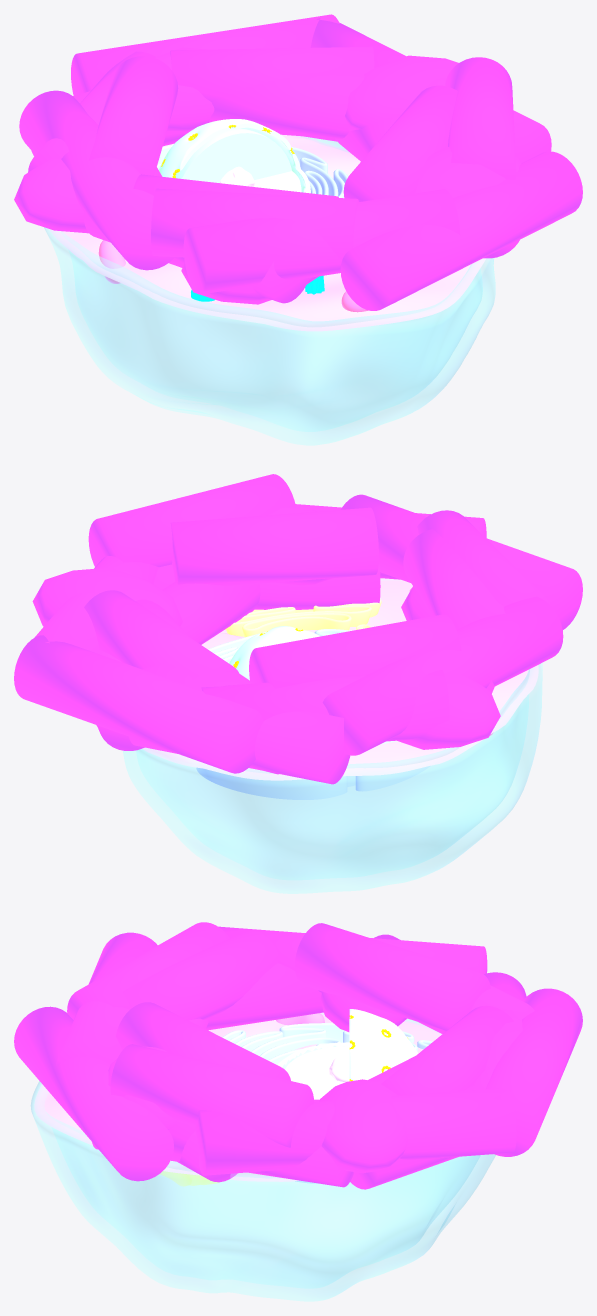
The model's file is heart-cellular-progressing-3.glb.
3 renders of one model, top to bottom at view 1: azimuth 30°, elevation 25°; view 2: azimuth 150°, elevation 25°; view 3: azimuth 270°, elevation 25°, orthographic. The views are drawn at different scales.
Visible parts, largest first — view 1: Sphere_0, AmyloidFibril_6, AmyloidFibril_7, Sphere.001_0, AmyloidFibril_2, AmySevere_9, AmySevere_0, AmySevere_4, AmySevere_6, AmySevere_8, AmySevere_5, AmyloidFibril_4 (+14 smaller); view 2: Sphere_0, AmyloidFibril_4, AmySevere_6, AmyloidFibril_2, AmySevere_0, AmySevere_8, Sphere.001_0, AmySevere_4, AmyloidFibril_7, AmyloidFibril_5, AmyloidFibril_9, AmySevere_1 (+13 smaller); view 3: Sphere_0, AmyloidFibril_0, AmySevere_0, AmyloidFibril_6, AmySevere_8, AmyloidFibril_4, AmySevere_1, AmyloidClump_0, AmySevere_4, AmySevere_6, AmyloidFibril_7, AmySevere_9 (+15 smaller).
Part boxes in pixels (x1,y1,x2,y2): Sphere_0: (44, 136, 495, 445); AmyloidFibril_6: (340, 151, 582, 310); AmyloidFibril_7: (183, 189, 460, 294); Sphere.001_0: (49, 134, 486, 331); AmyloidFibril_2: (19, 90, 174, 270); AmySevere_9: (151, 188, 358, 260); AmySevere_0: (88, 56, 178, 175); AmySevere_4: (170, 46, 374, 102); AmySevere_6: (343, 85, 457, 201); AmySevere_8: (445, 57, 516, 179); AmySevere_5: (209, 74, 364, 138); AmyloidFibril_4: (71, 14, 339, 95); Sphere_0: (123, 578, 542, 893); AmyloidFibril_4: (14, 635, 263, 773); AmySevere_6: (170, 507, 378, 585); AmyloidFibril_2: (322, 596, 563, 755); AmySevere_0: (249, 614, 461, 688); AmySevere_8: (88, 474, 296, 567); Sphere.001_0: (142, 578, 538, 780); AmySevere_4: (84, 590, 239, 679); AmyloidFibril_7: (340, 494, 582, 629); AmyloidFibril_5: (129, 711, 350, 784); AmyloidFibril_9: (201, 670, 449, 741); AmySevere_1: (403, 529, 505, 629); Sphere_0: (31, 1013, 495, 1301); AmyloidFibril_0: (195, 1088, 516, 1175); AmySevere_0: (295, 923, 490, 1030); AmyloidFibril_6: (14, 1006, 173, 1181); AmySevere_8: (110, 1044, 314, 1147); AmyloidFibril_4: (486, 988, 582, 1156); AmySevere_1: (122, 930, 277, 1020); AmyloidClump_0: (319, 1079, 407, 1173); AmySevere_4: (381, 1005, 513, 1095); AmySevere_6: (115, 1002, 290, 1080); AmyloidFibril_7: (55, 932, 157, 1068); AmySevere_9: (67, 922, 229, 1019).
Size of the model in its own units: 3.1 by 1.92 by 3.47.
